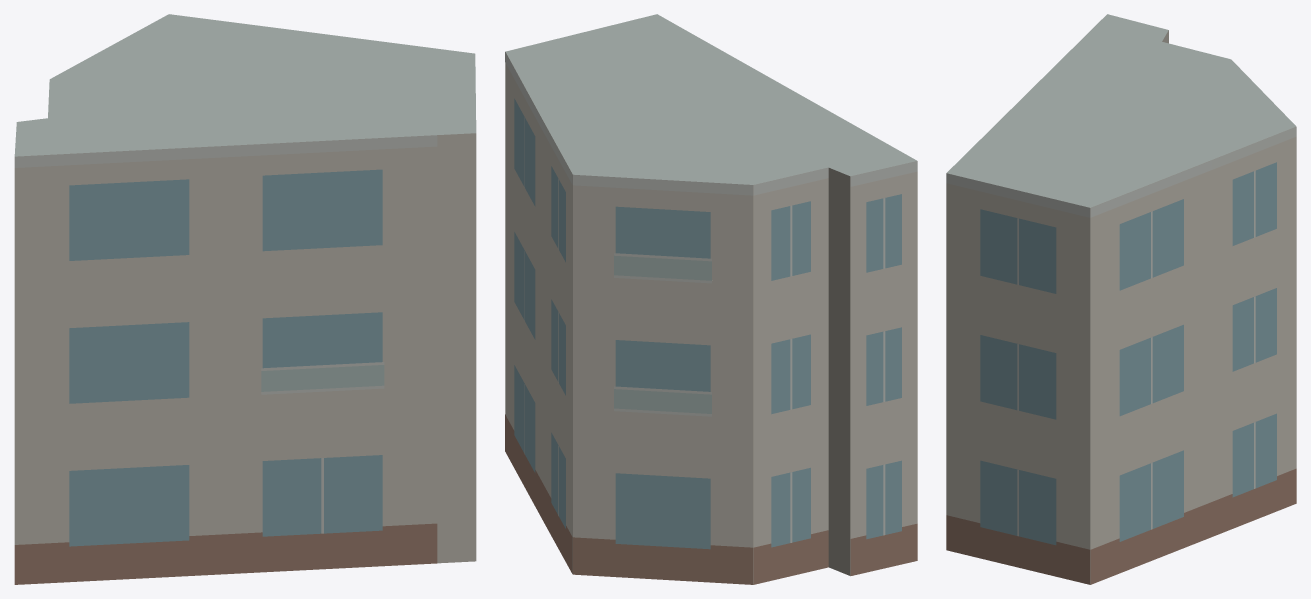
Rendered from survey-upis-32600588.glb.
3 renders of one model, left to right at view 1: azimuth 30°, elevation 25°; view 2: azimuth 150°, elevation 25°; view 3: azimuth 270°, elevation 25°, orthographic. The views are drawn at different scales.
Parts seen in each view (by area): view 1: survey-upis-32600588.tmp; view 2: survey-upis-32600588.tmp; view 3: survey-upis-32600588.tmp.
Boxes of the visible parts, bbox=[...] form: survey-upis-32600588.tmp: bbox=[14, 14, 476, 584]; survey-upis-32600588.tmp: bbox=[505, 14, 917, 584]; survey-upis-32600588.tmp: bbox=[946, 14, 1296, 584].
Size of the model in its own units: 10.1 by 9.15 by 7.71.
